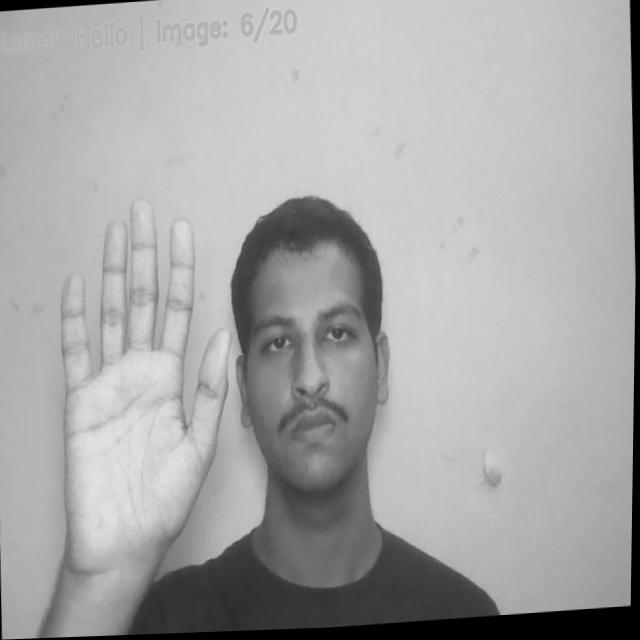Hello: (49, 196, 244, 582)
